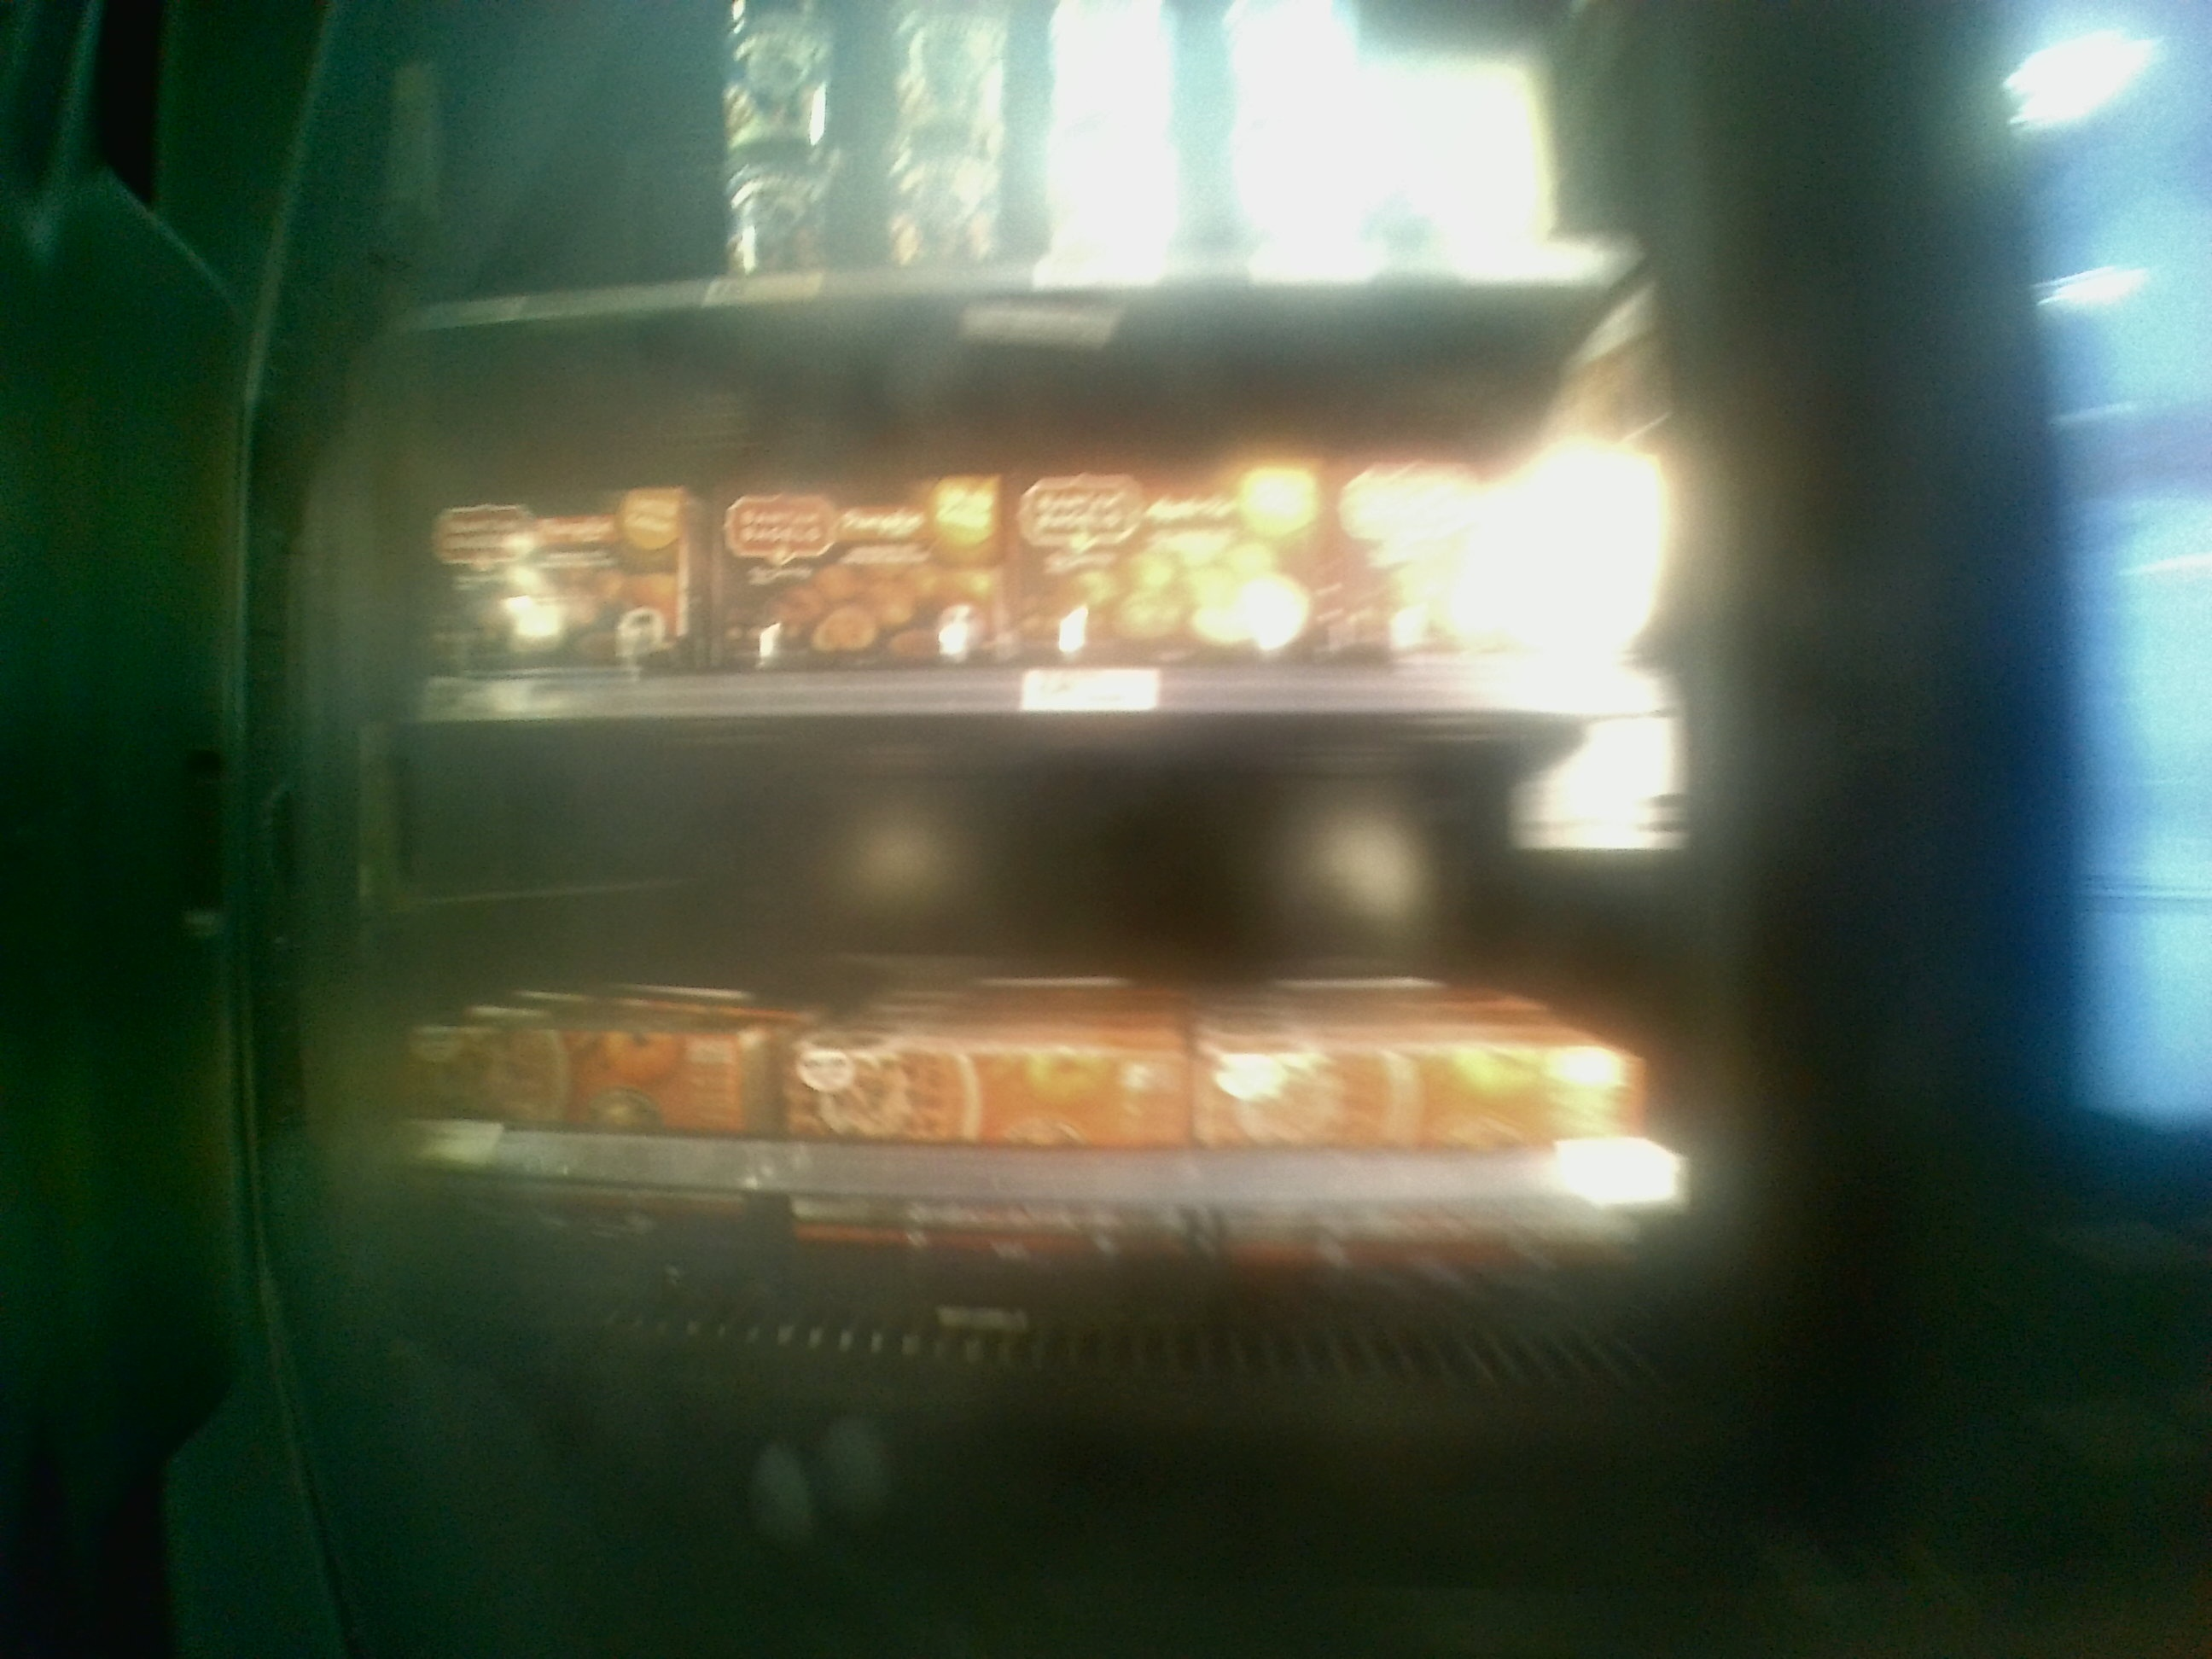shelf: (359, 695, 1702, 1412), (354, 321, 1674, 735)
